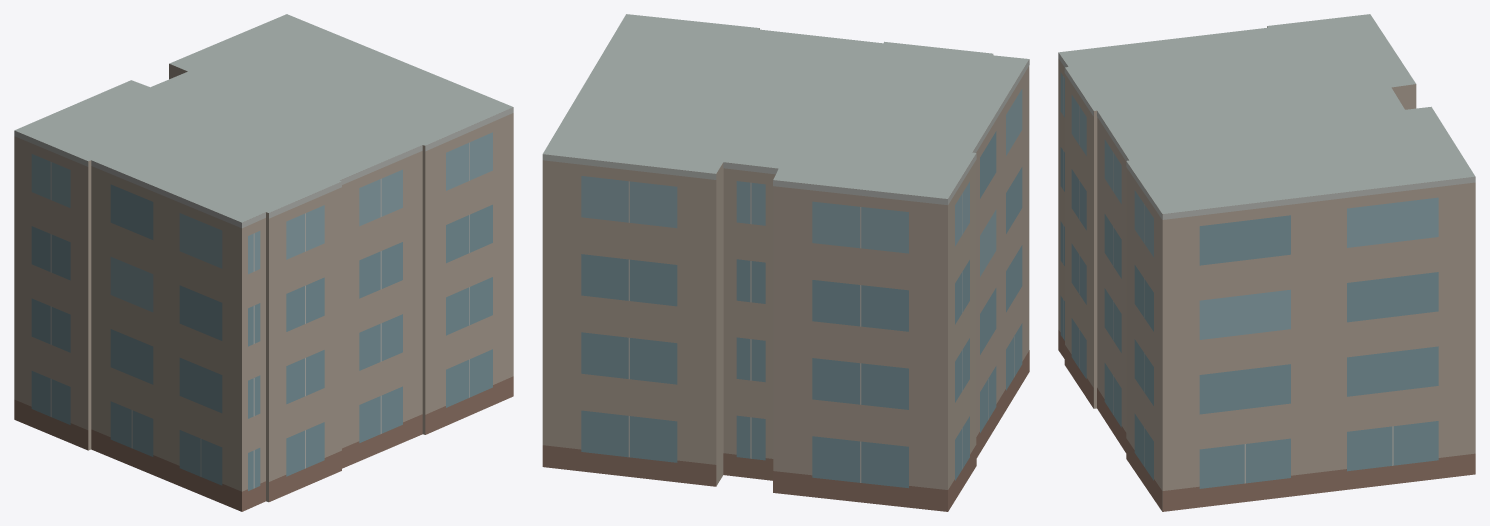
Rendered from survey-upis-32653639.glb.
The picture shows the model from 3 angles, left to right: view 1: azimuth 30°, elevation 25°; view 2: azimuth 150°, elevation 25°; view 3: azimuth 270°, elevation 25°; orthographic projection. The views are drawn at different scales.
Parts seen in each view (by area): view 1: survey-upis-32653639.tmp; view 2: survey-upis-32653639.tmp; view 3: survey-upis-32653639.tmp.
Part boxes in pixels (x1,y1,x2,y2): survey-upis-32653639.tmp: (14,14,513,511); survey-upis-32653639.tmp: (542,14,1029,511); survey-upis-32653639.tmp: (1058,14,1475,511).
Bounding box in the file's own units: 17.89 × 12.4 × 15.76.
